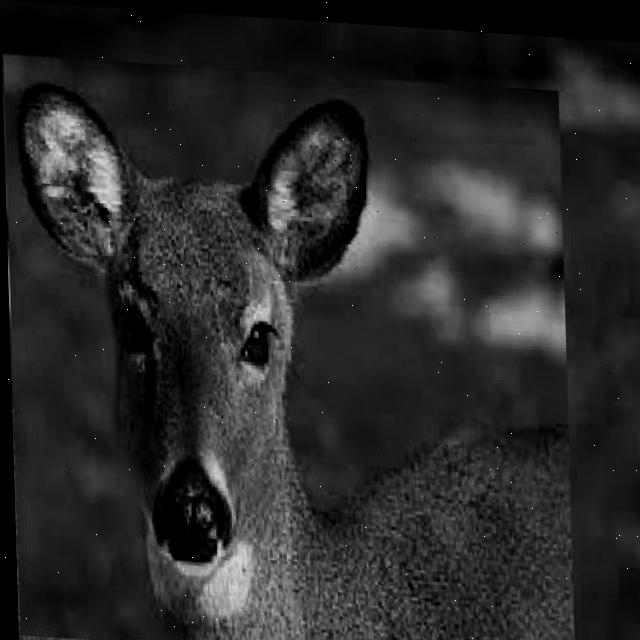Deer: (3, 55, 577, 640)
